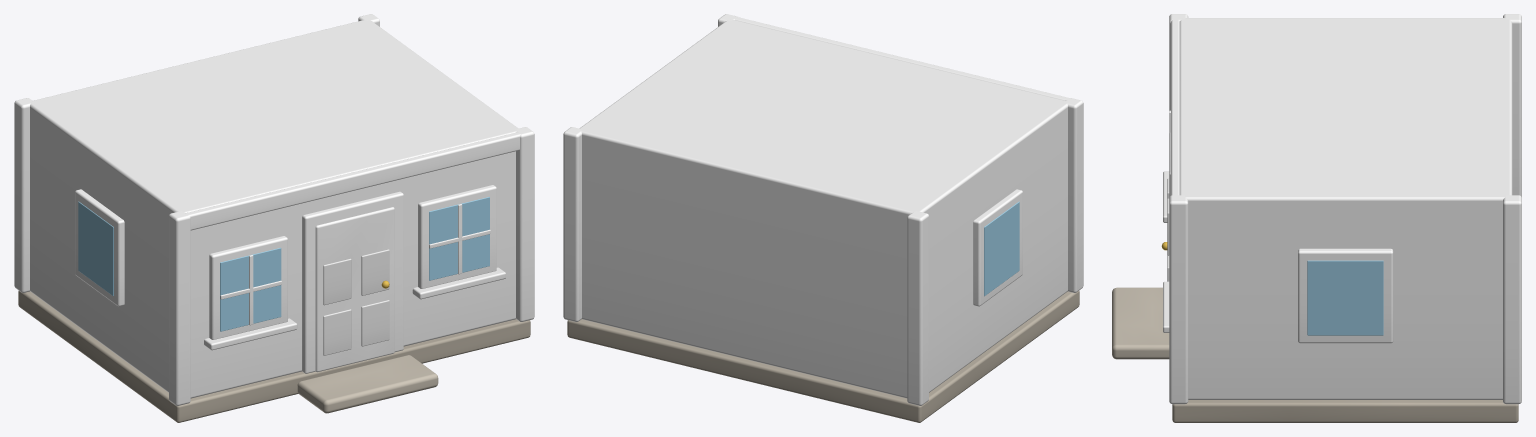
File: house_body_tiled.glb
3 views of the same model, side by side, from view 1: azimuth 30°, elevation 25°; view 2: azimuth 150°, elevation 25°; view 3: azimuth 270°, elevation 25° (orthographic). The views are drawn at different scales.
Parts seen in each view (by area): view 1: house_body_tiled_house_wall, house_body_tiled_house_trim, house_body_tiled_house_stone, house_body_tiled_house_door, house_body_tiled_house_glass; view 2: house_body_tiled_house_wall, house_body_tiled_house_trim, house_body_tiled_house_stone, house_body_tiled_house_glass; view 3: house_body_tiled_house_wall, house_body_tiled_house_trim, house_body_tiled_house_stone, house_body_tiled_house_glass, house_body_tiled_house_door.
Part boxes in pixels (x1,y1,x2,y2): house_body_tiled_house_wall: [30, 20, 518, 398]; house_body_tiled_house_trim: [14, 14, 534, 405]; house_body_tiled_house_stone: [18, 291, 530, 422]; house_body_tiled_house_door: [315, 207, 394, 372]; house_body_tiled_house_glass: [78, 197, 489, 331]; house_body_tiled_house_wall: [579, 19, 1067, 398]; house_body_tiled_house_trim: [563, 14, 1083, 405]; house_body_tiled_house_stone: [567, 291, 1079, 422]; house_body_tiled_house_glass: [984, 201, 1019, 296]; house_body_tiled_house_wall: [1179, 18, 1512, 399]; house_body_tiled_house_trim: [1163, 14, 1521, 404]; house_body_tiled_house_stone: [1112, 287, 1518, 422]; house_body_tiled_house_glass: [1307, 260, 1383, 335]; house_body_tiled_house_door: [1161, 132, 1170, 281].
Size of the model in its own units: 2.82 by 1.55 by 2.58.
